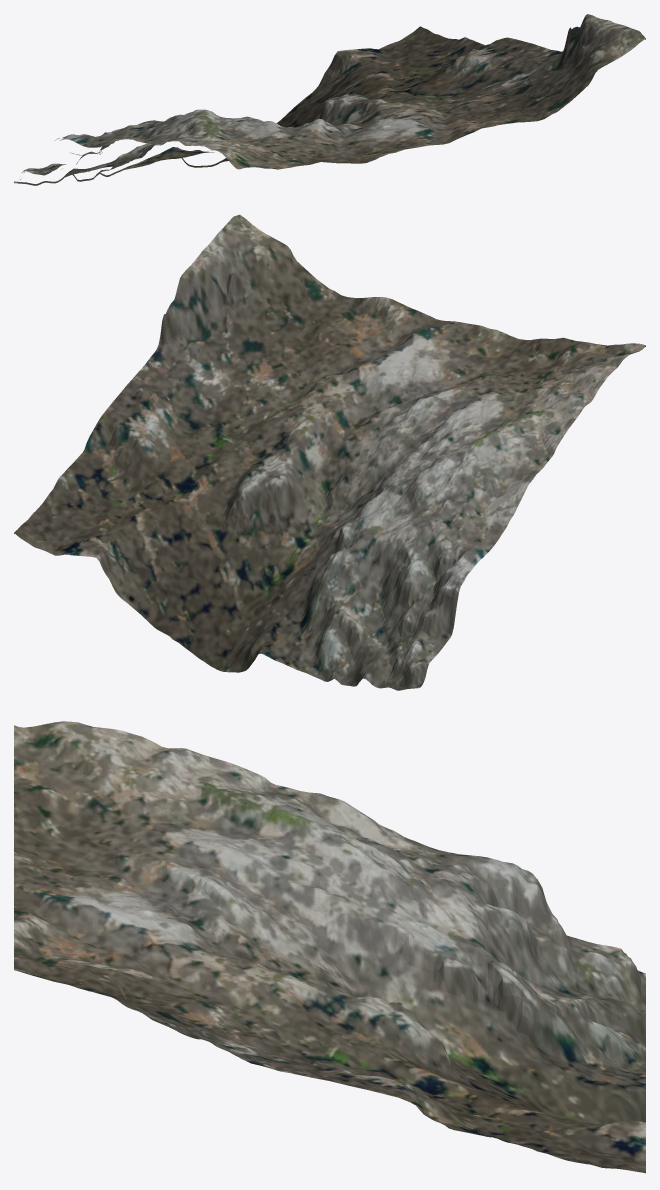
3 renders of one model, top to bottom at view 1: azimuth 30°, elevation 25°; view 2: azimuth 150°, elevation 25°; view 3: azimuth 270°, elevation 25°, orthographic. The views are drawn at different scales.
Size of the model in its own units: 250 by 144 by 241.
1 material, 1 textured.
